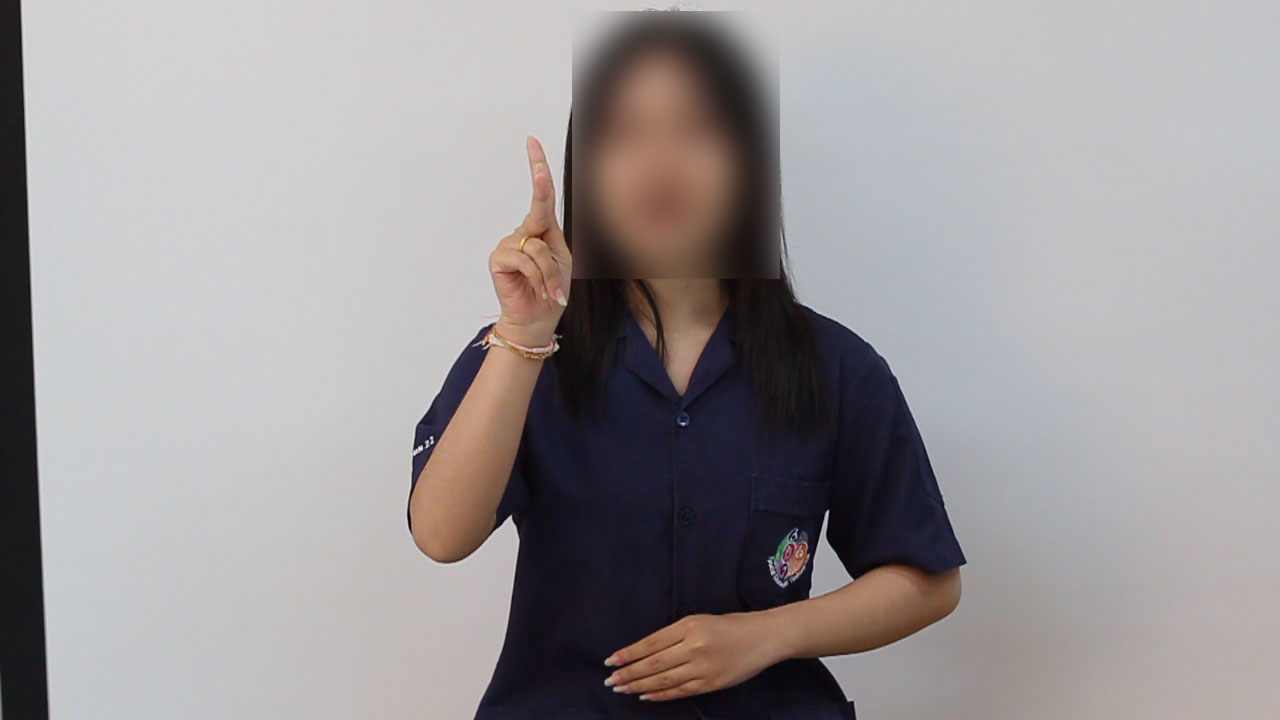ko: (438, 101, 599, 356)
